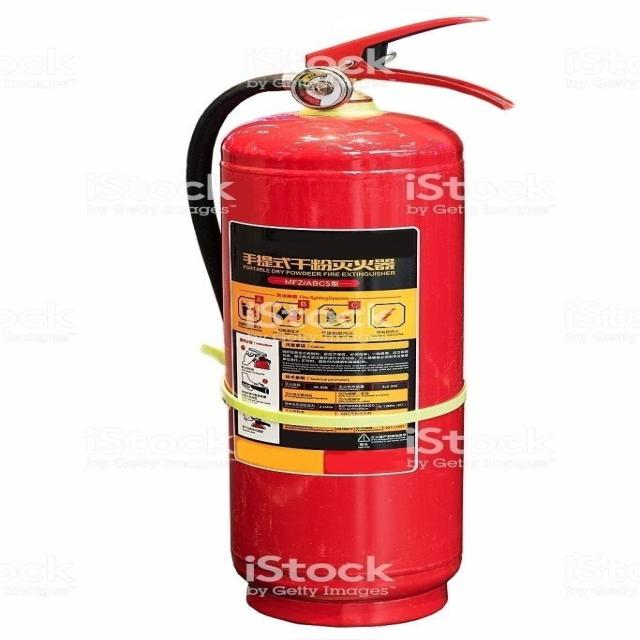fire_extinguisher: (180, 12, 521, 630)
